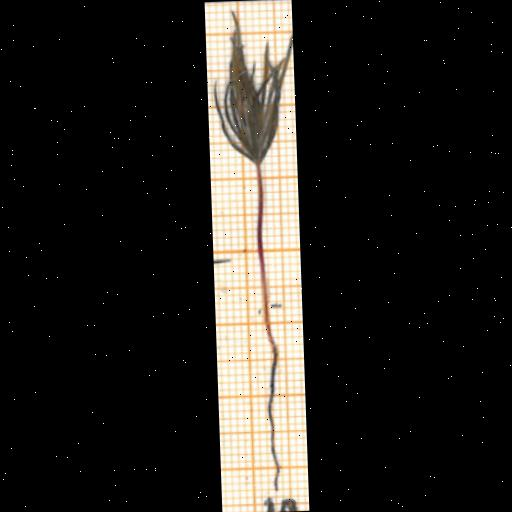flowerPinus: (213, 14, 291, 165)
rootPinus: (263, 307, 278, 490)
stemPinus: (254, 163, 268, 308)
